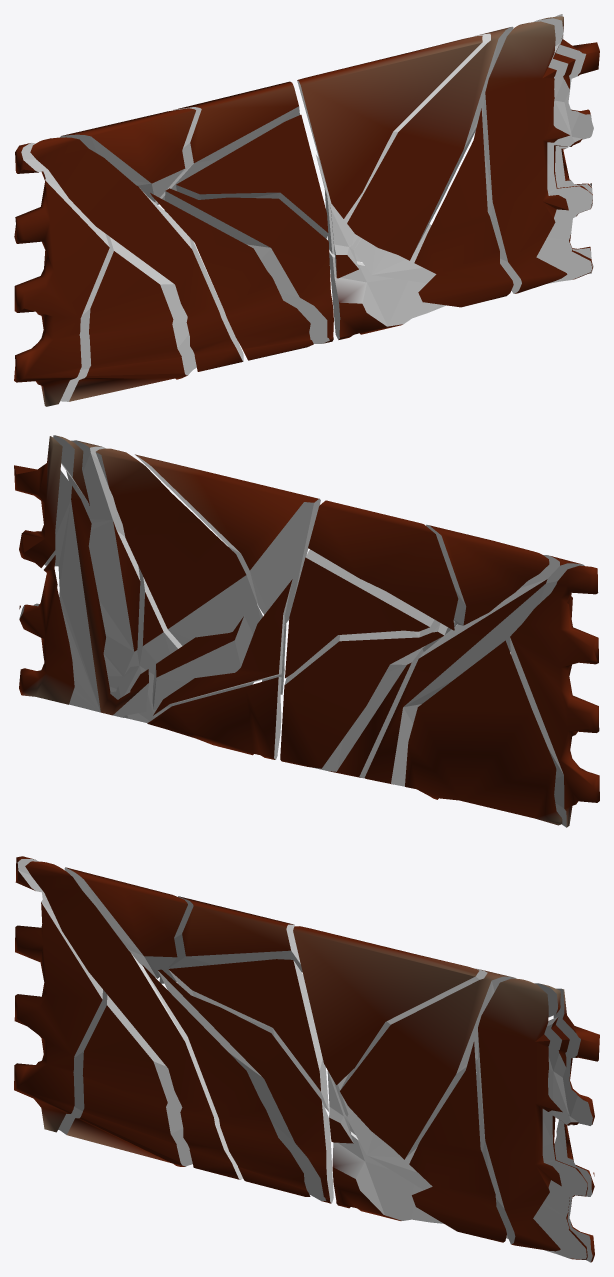
The model's file is Brickwall.glb.
The picture shows the model from 3 angles, top to bottom: view 1: azimuth 30°, elevation 25°; view 2: azimuth 150°, elevation 25°; view 3: azimuth 330°, elevation 25°; orthographic projection.
Visible parts, largest first — view 1: Root.008, Root.012, Root.013, Root.003, Root, Root.009, Root.018, Root.019, Root.004, Root.007, Root.011, Root.002 (+6 smaller); view 2: Root, Root.012, Root.009, Root.003, Root.018, Root.011, Root.013, Root.014, Root.007, Root.008, Root.001, Root.002 (+7 smaller); view 3: Root.008, Root.012, Root.013, Root.003, Root, Root.009, Root.018, Root.019, Root.007, Root.004, Root.011, Root.002 (+5 smaller).
Boxes of the visible parts, x1,y1,x2,y2 form: Root.008: (482,21,569,293); Root.012: (347,26,513,260); Root.013: (30,137,243,371); Root.003: (297,35,482,218); Root: (60,233,196,401); Root.009: (14,142,109,406); Root.018: (164,188,333,343); Root.019: (414,108,513,307); Root.004: (150,193,313,360); Root.007: (176,114,328,238); Root.011: (155,81,299,204); Root.002: (60,108,195,202); Root: (405,640,562,825); Root.012: (95,448,262,645); Root.009: (510,565,599,827); Root.003: (135,454,320,625); Root.018: (280,619,447,768); Root.011: (308,500,458,630); Root.013: (364,555,584,786); Root.014: (33,470,148,717); Root.007: (285,549,434,678); Root.008: (66,440,140,695); Root.001: (147,677,281,759); Root.002: (426,524,549,625); Root.008: (476,978,562,1251); Root.012: (340,968,515,1159); Root.013: (25,861,242,1179); Root.003: (293,926,479,1084); Root: (58,990,192,1166); Root.009: (14,856,102,1132); Root.018: (157,969,333,1203); Root.019: (409,1042,506,1242); Root.007: (168,959,328,1111); Root.004: (142,965,310,1196); Root.011: (159,896,302,983); Root.002: (64,867,187,978).
Size of the model in its own units: 2.56 by 1.13 by 0.0639.
